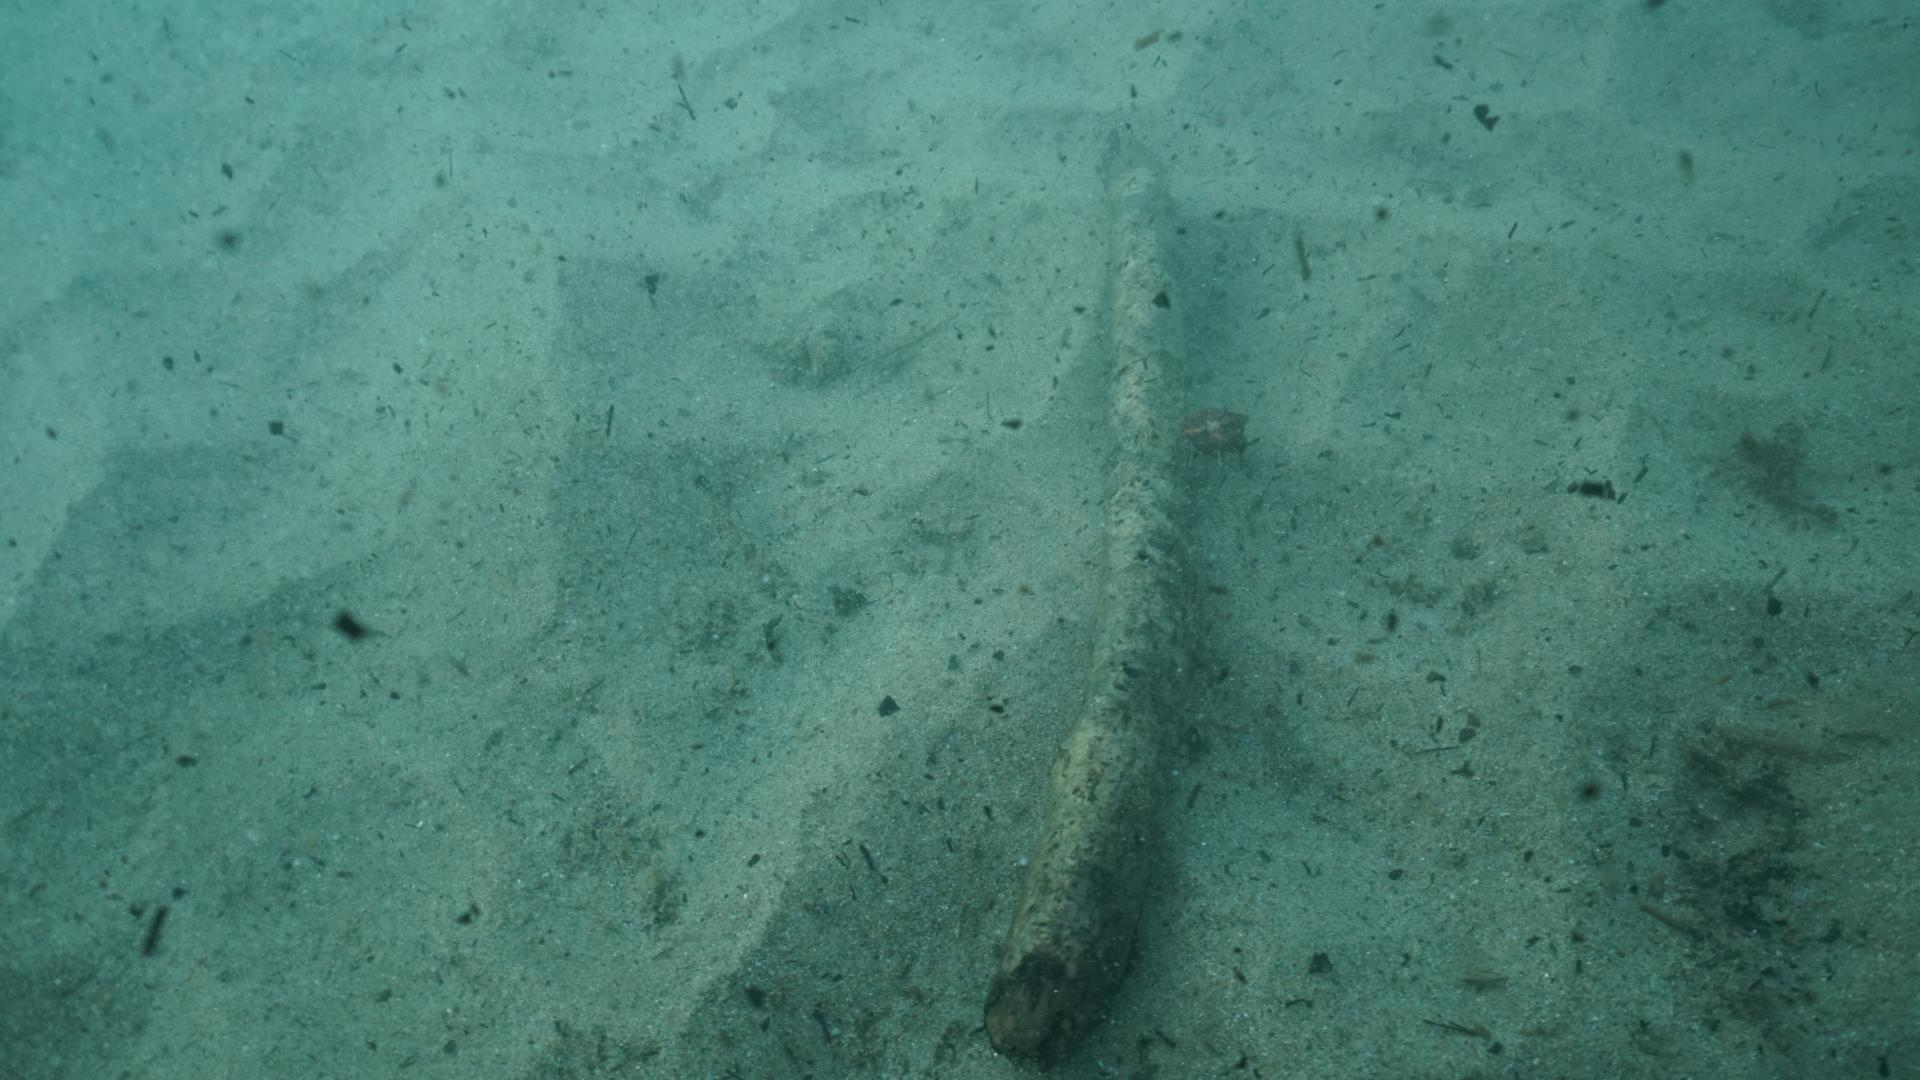wood: (977, 166, 1187, 1062)
